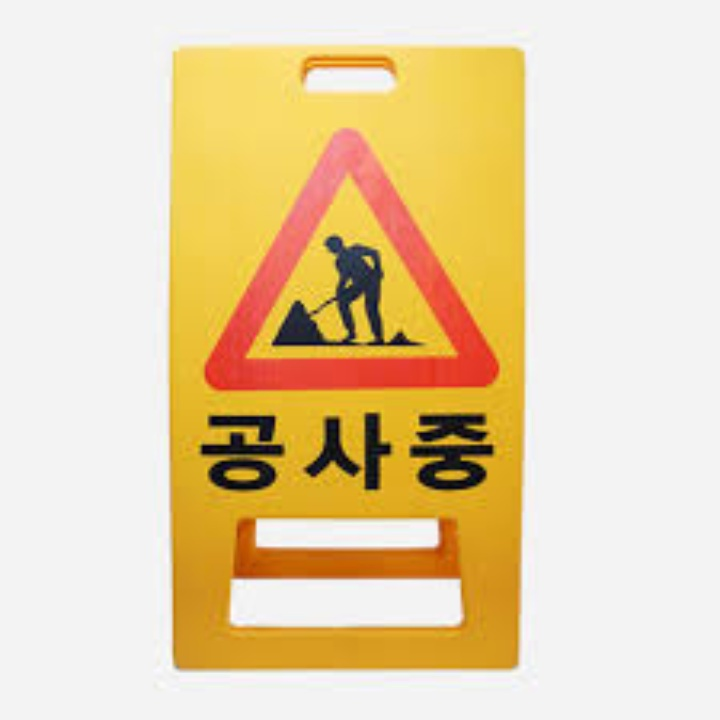const: (275, 223, 427, 343)
